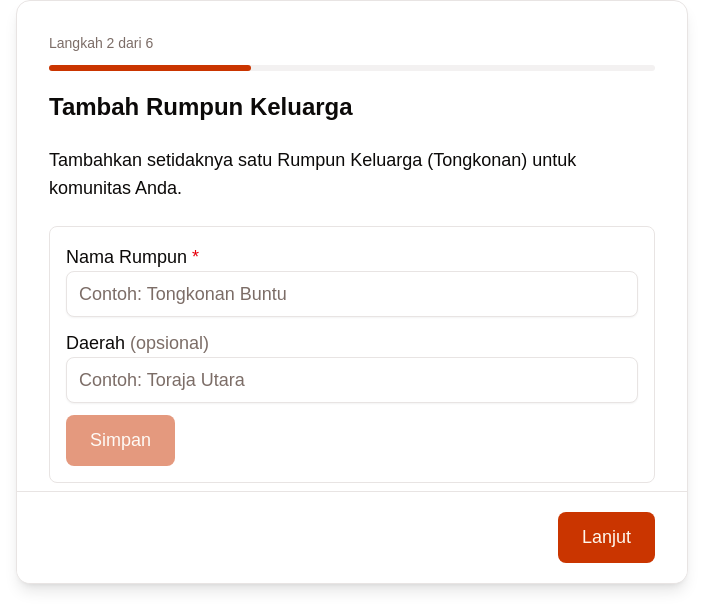
Scenario: AdminStep2Clans — "Lanjut" gate (Requirement 3.3) › enables "Simpan" when a name is typed
The image size is (705, 610).
Type "Tongkonan A" into the field labelled "Nama Rumpun *" at [352, 294], box [66,271,638,317]
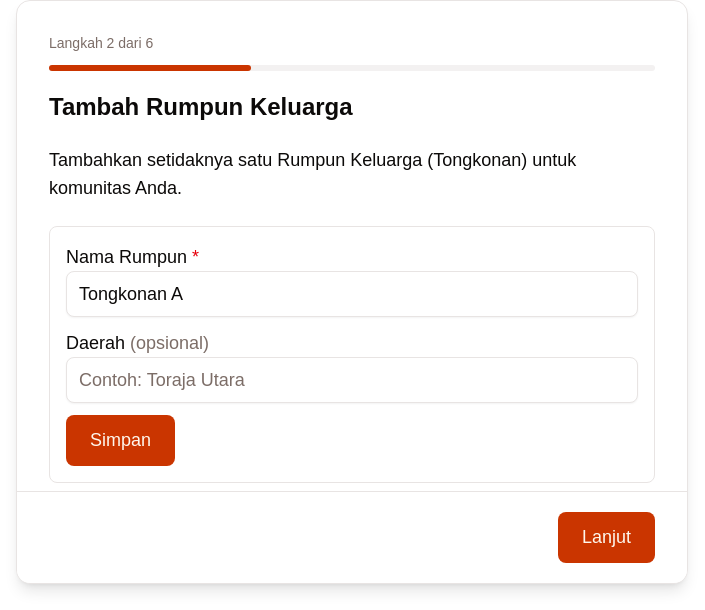
Result: the button "Simpan" is enabled at [66,415,175,466]
